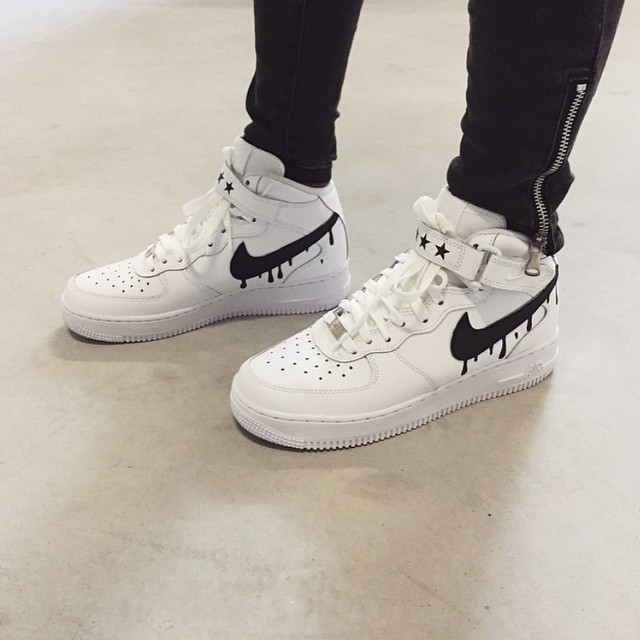sneaker: (198, 178, 594, 488), (38, 127, 368, 371)
